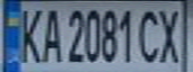0: (81, 4, 103, 63)
1: (115, 6, 139, 63)
2: (63, 4, 84, 63)
8: (100, 4, 121, 63)
A: (36, 4, 63, 63)
C: (136, 4, 163, 63)
K: (15, 3, 45, 64)
X: (154, 4, 190, 64)
